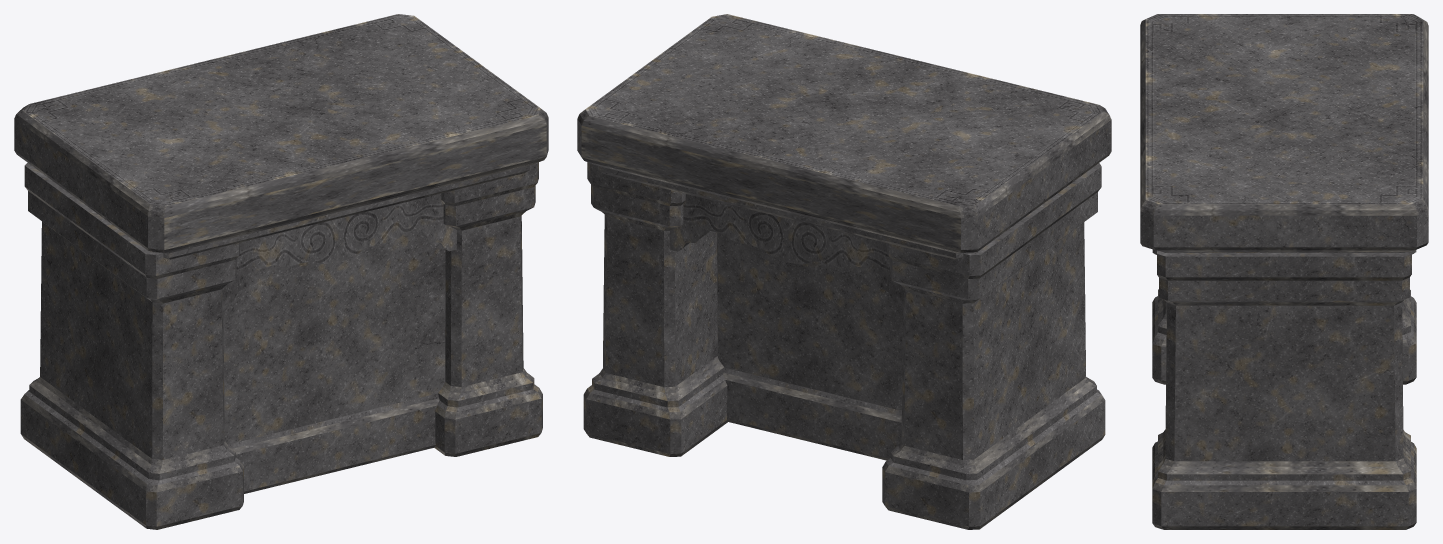
Rendered from Bench.fbx.
3 renders of one model, left to right at view 1: azimuth 30°, elevation 25°; view 2: azimuth 150°, elevation 25°; view 3: azimuth 270°, elevation 25°, orthographic.
Visible parts, largest first — view 1: Bench_LOD0; view 2: Bench_LOD0; view 3: Bench_LOD0.
Part boxes in pixels (x1,y1,x2,y2): Bench_LOD0: (14, 14, 548, 529); Bench_LOD0: (577, 14, 1111, 529); Bench_LOD0: (1140, 14, 1428, 529).
Size of what is drawn, in the model's own units: 1.25 by 0.97 by 0.78.
Materials: 1 (1 with a texture image).
